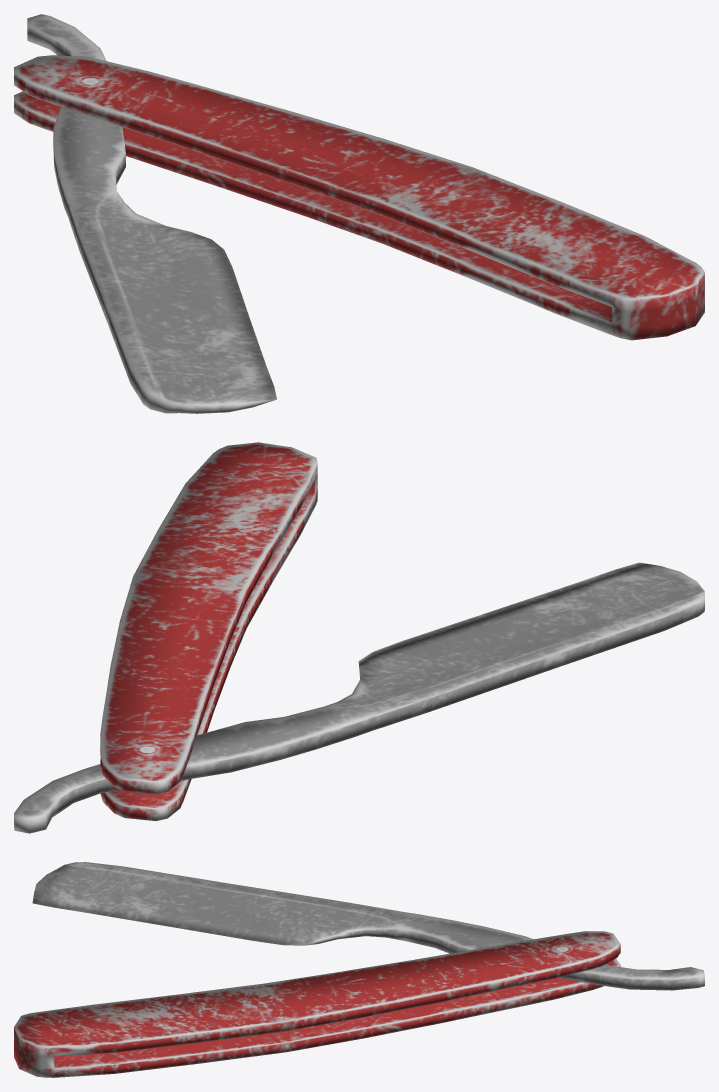
File: razor.glb
3 renders of one model, top to bottom at view 1: azimuth 30°, elevation 25°; view 2: azimuth 150°, elevation 25°; view 3: azimuth 270°, elevation 25°, orthographic. The views are drawn at different scales.
Visible parts, largest first — view 1: ruchka_low, blade_low; view 2: ruchka_low, blade_low; view 3: ruchka_low, blade_low.
Part boxes in pixels (x1,y1,x2,y2): ruchka_low: [14, 55, 704, 340]; blade_low: [27, 14, 276, 413]; ruchka_low: [100, 442, 317, 821]; blade_low: [14, 562, 704, 833]; ruchka_low: [14, 931, 620, 1077]; blade_low: [32, 862, 704, 990].
Size of the model in its own units: 10.99 by 0.7912 by 16.42.
Materials: 1 (1 with a texture image).
